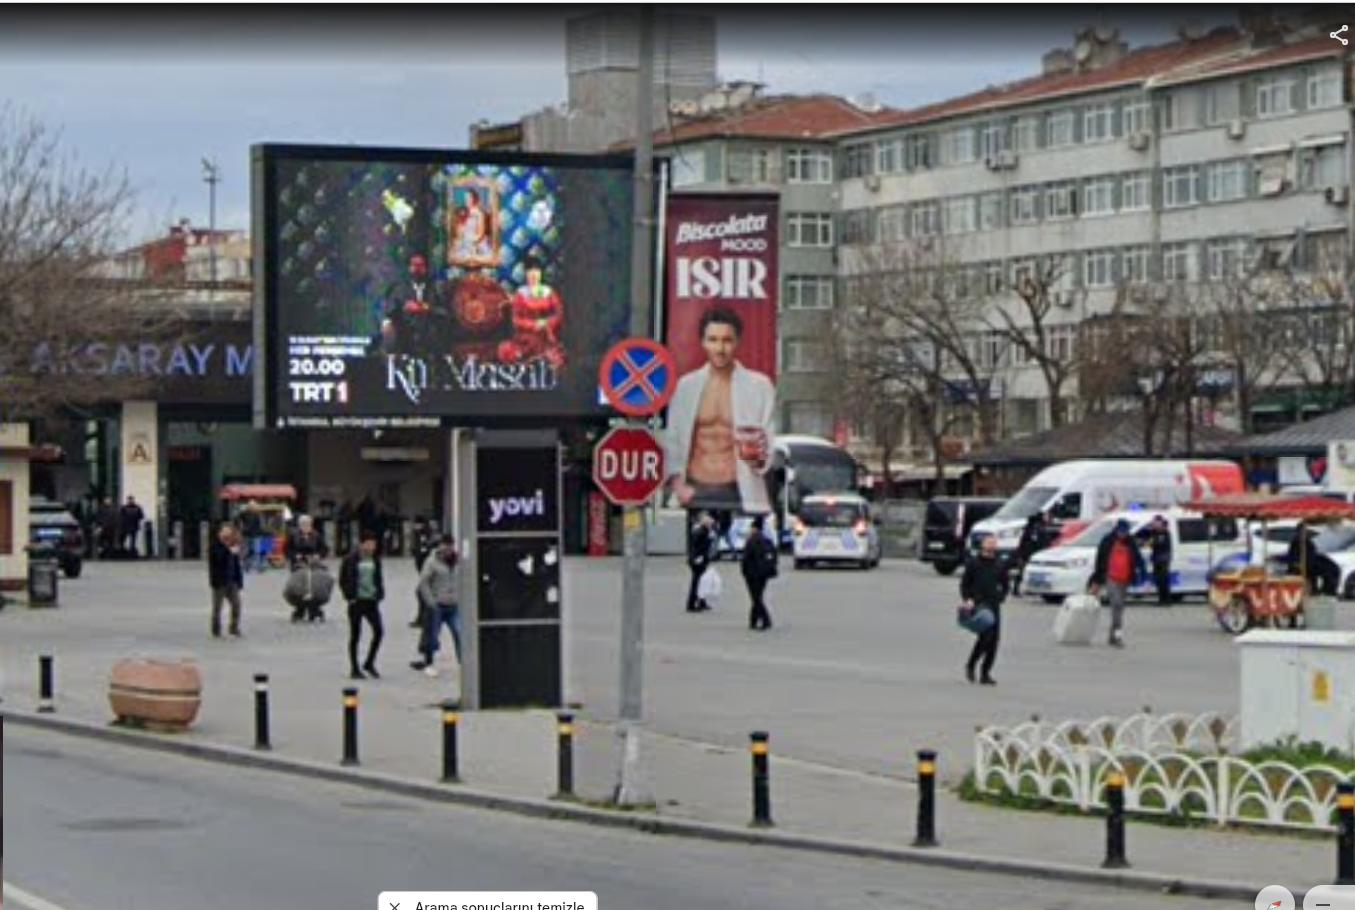stop: (595, 427, 665, 502)
